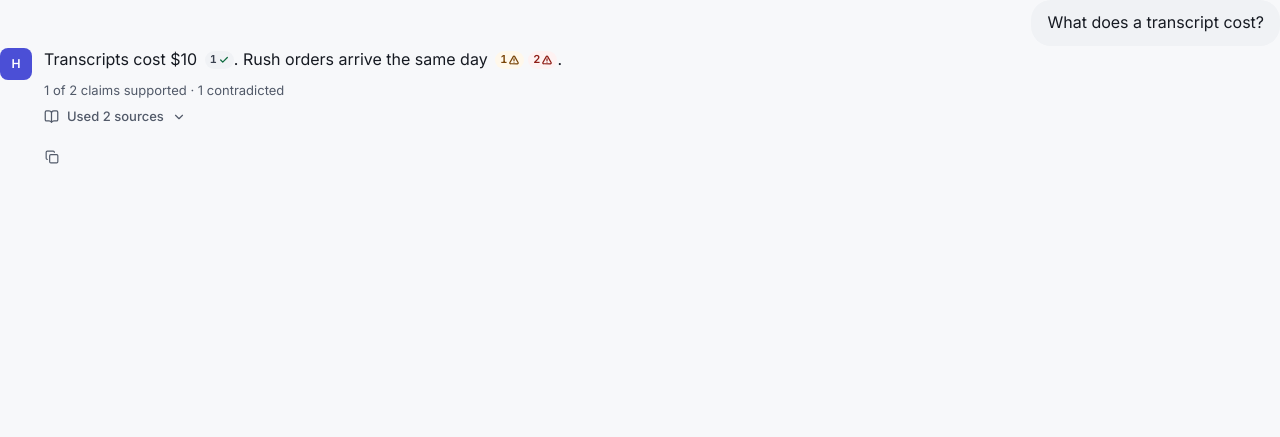
Test case: source viewer › says clearly when the document was deleted or the passage changed, with what the answer quoted
Click the button "Used 2 sources" at (115, 117), box left=36, top=101, right=194, bottom=133
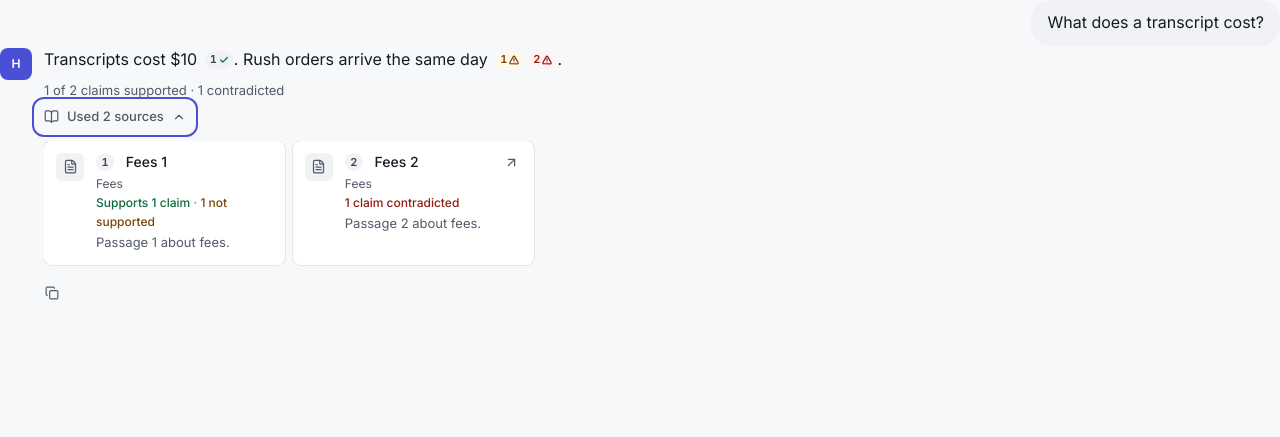
Click the button named "Show source 1: Fees 1" at (164, 203), box left=44, top=141, right=285, bottom=265
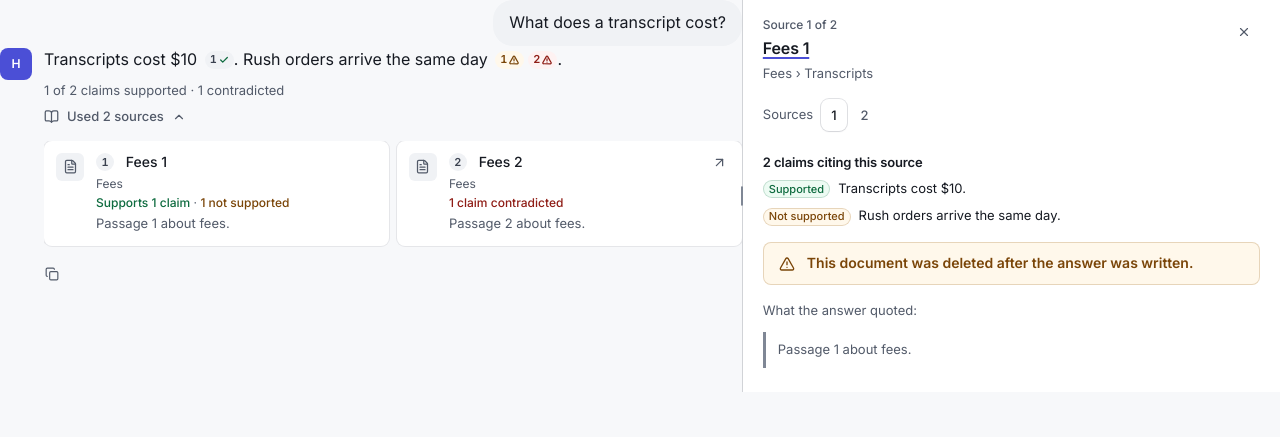
Now the text "This document was deleted after the answer was written." is shown, box left=807, top=254, right=1244, bottom=273
Now the text "Passage 1 about fees." below "What the answer quoted:" is shown, box left=778, top=341, right=911, bottom=357
Click the button named "Source 2: Fees 2" at (864, 115), box left=850, top=99, right=878, bottom=131
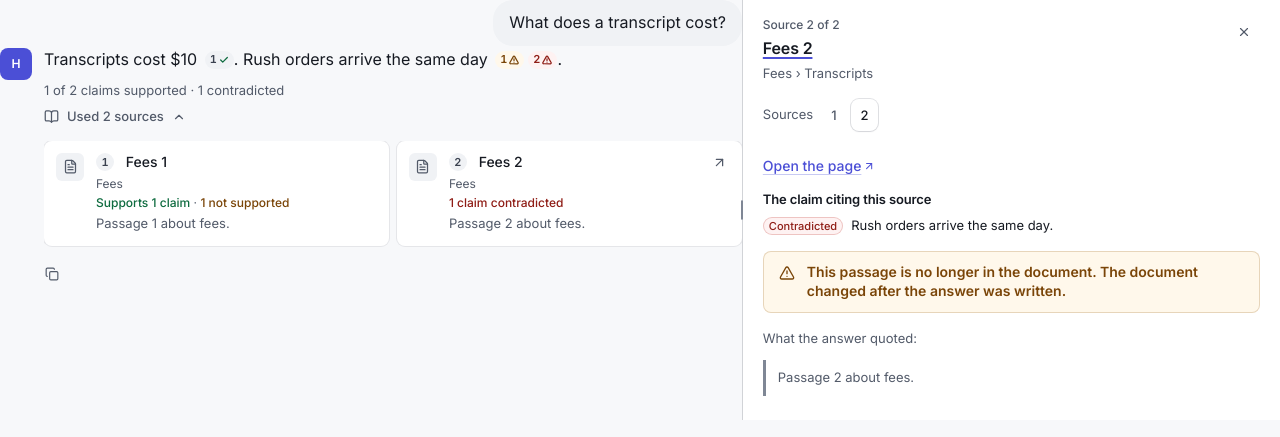
Now the text "This passage is no longer in the document" is shown, box left=807, top=263, right=1198, bottom=299
